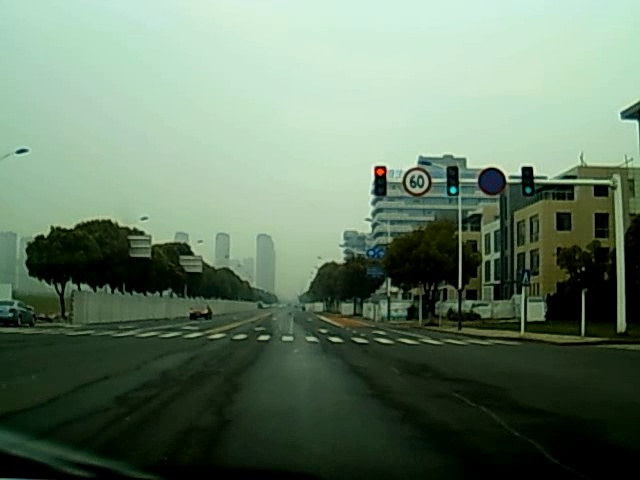Traffic_Light_go: (523, 168, 533, 199), (448, 168, 458, 197)
Traffic_Light_stop: (375, 168, 385, 197)
